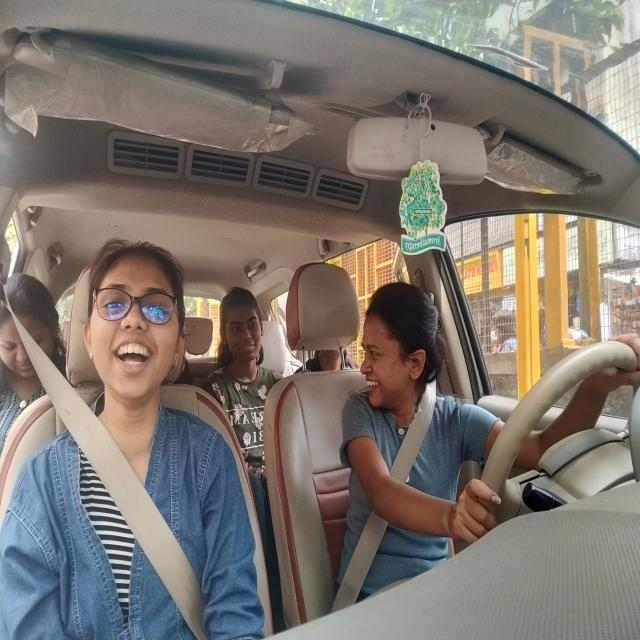person: (81, 226, 191, 435), (342, 268, 453, 438), (0, 270, 61, 407), (218, 272, 273, 392)
talking: (358, 357, 382, 404)
